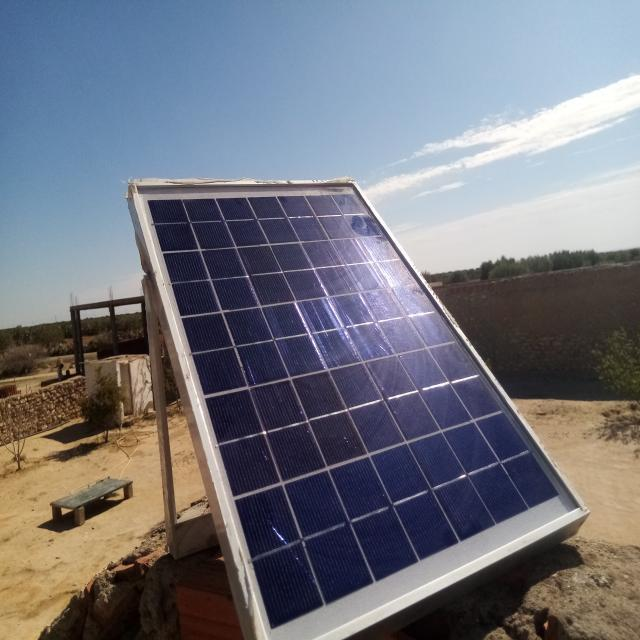Normal Solar Panel: (128, 174, 588, 640)
